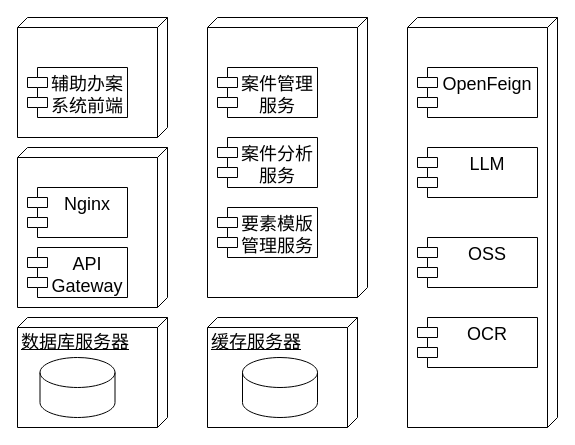
The diagram is 575 pixels wide and 445 high, and some of its shapes have lost their labels. The box of each missing label's shape, as (x1, y1, x2, y2) in pixels:
PgSQL: (39, 356, 115, 418)
Redis: (242, 356, 318, 418)
业务服务器: (206, 16, 368, 298)
前端服务器: (16, 16, 168, 138)
支撑服务: (406, 16, 558, 428)
网关服务器: (16, 146, 168, 308)
